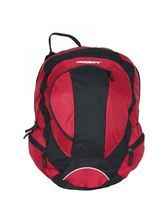bag: (26, 32, 148, 193)
